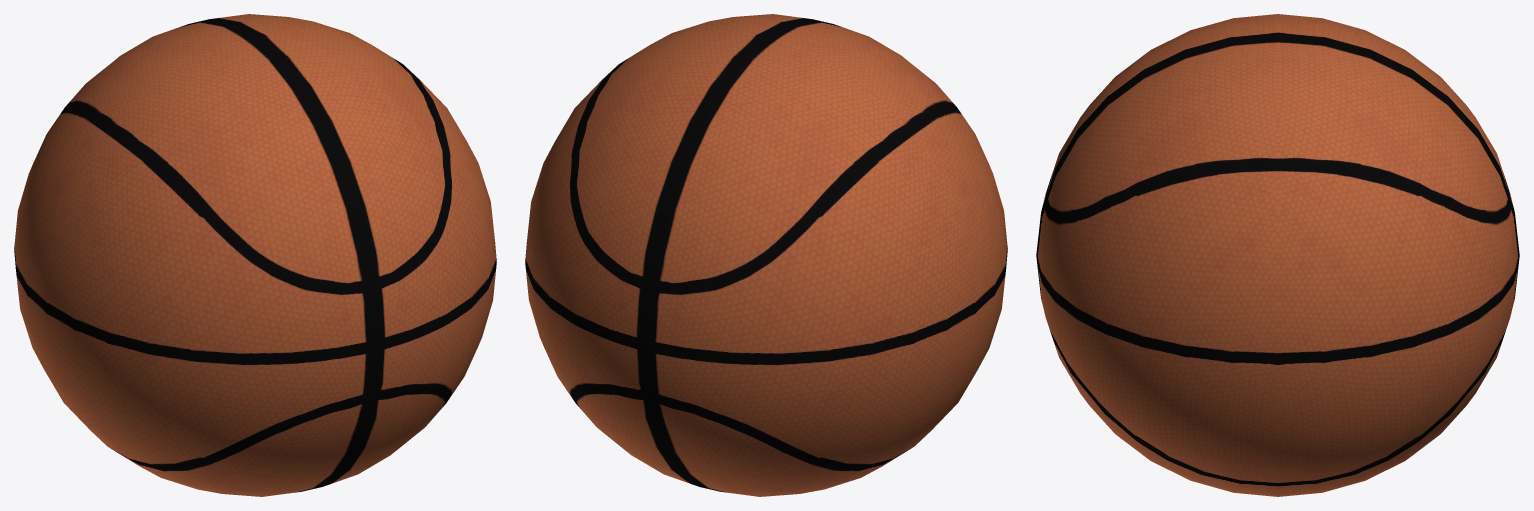
The model's file is basketball.gltf.
3 renders of one model, left to right at view 1: azimuth 30°, elevation 25°; view 2: azimuth 150°, elevation 25°; view 3: azimuth 270°, elevation 25°, orthographic.
Parts seen in each view (by area): view 1: Cube; view 2: Cube; view 3: Cube.
Boxes of the visible parts, x1=… form: Cube: x1=14, y1=14, x2=496, y2=496; Cube: x1=525, y1=14, x2=1007, y2=496; Cube: x1=1036, y1=14, x2=1519, y2=496.
Bounding box in the file's own units: 3.46 × 3.46 × 3.46.
Materials: 1 (1 with a texture image).
